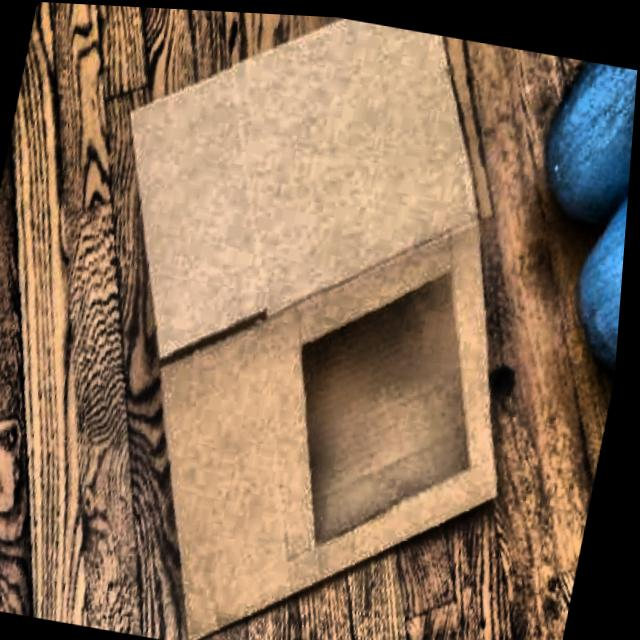Cardbox: (7, 2, 596, 640)
